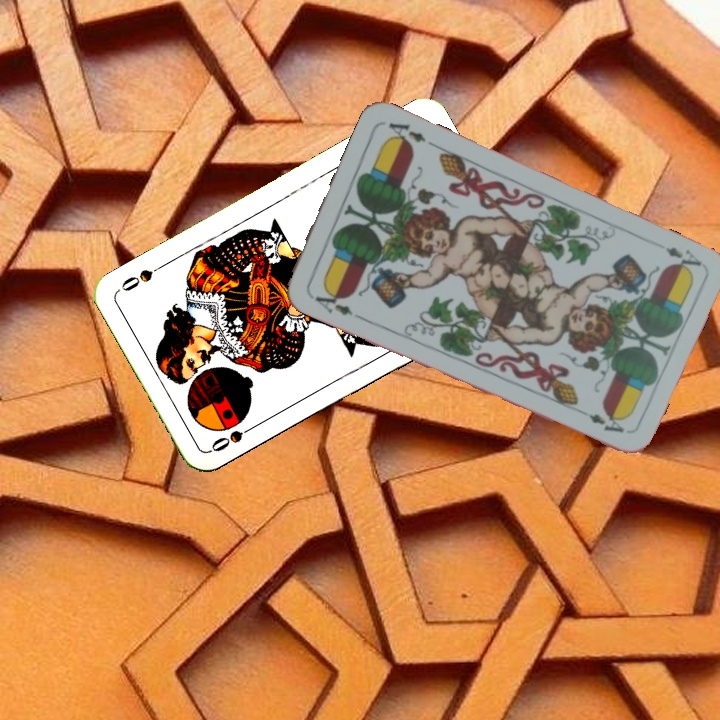EA: (306, 284, 356, 319), (661, 242, 704, 276)
SO: (207, 419, 261, 455)
